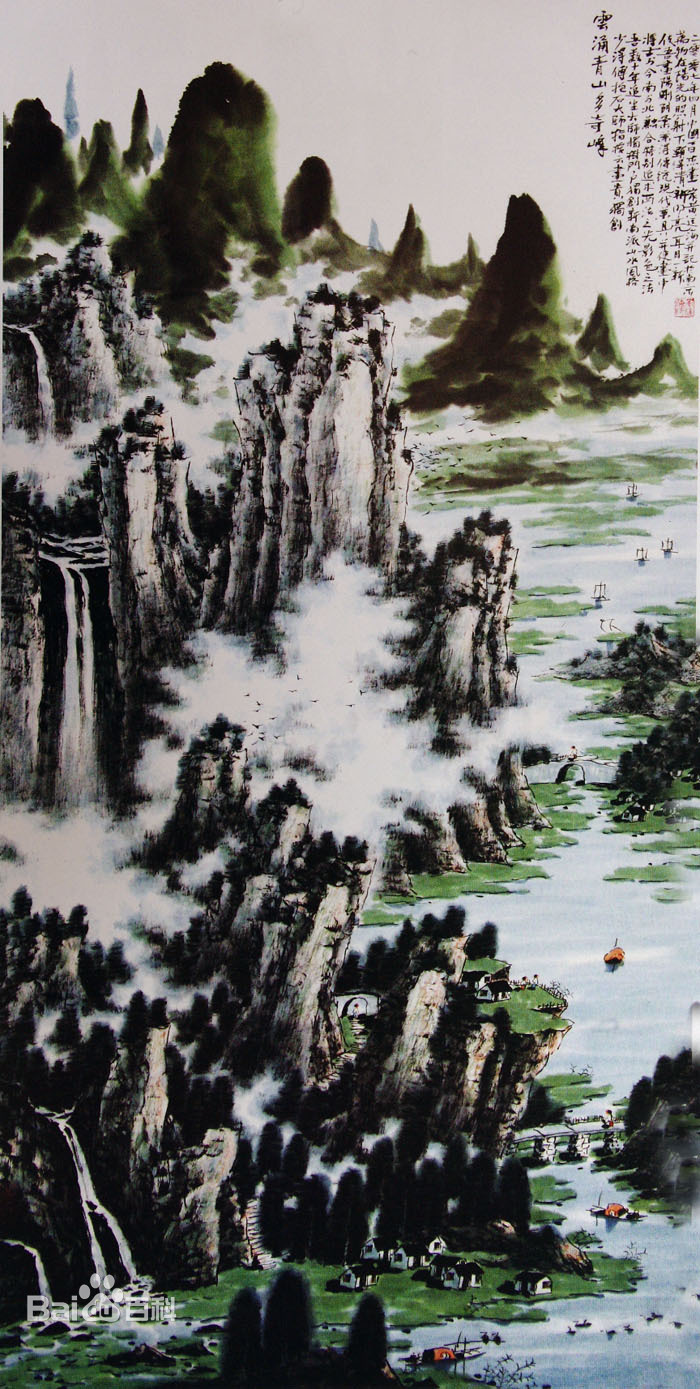boat: (591, 1195, 638, 1234), (404, 1346, 488, 1367), (602, 937, 630, 977), (590, 577, 611, 604), (661, 537, 677, 557), (625, 484, 639, 504), (599, 619, 621, 631), (637, 548, 649, 565)
bridge: (508, 1117, 634, 1160), (528, 756, 626, 787)
house: (358, 1233, 453, 1268), (461, 970, 512, 1004), (615, 786, 656, 826), (336, 987, 386, 1016), (661, 800, 686, 822)
man: (519, 974, 538, 992), (603, 1106, 615, 1133), (571, 744, 576, 763)
range: (51, 140, 332, 1139)
river: (459, 484, 692, 944)
waterfall: (40, 531, 108, 806), (7, 324, 66, 444)
